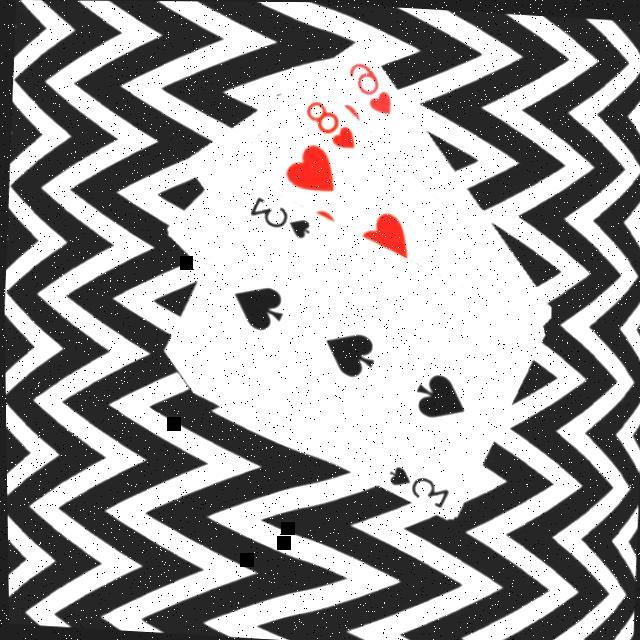3S: (381, 458, 452, 508), (243, 190, 314, 239)
6H: (341, 54, 397, 115)
8H: (298, 93, 360, 149)
